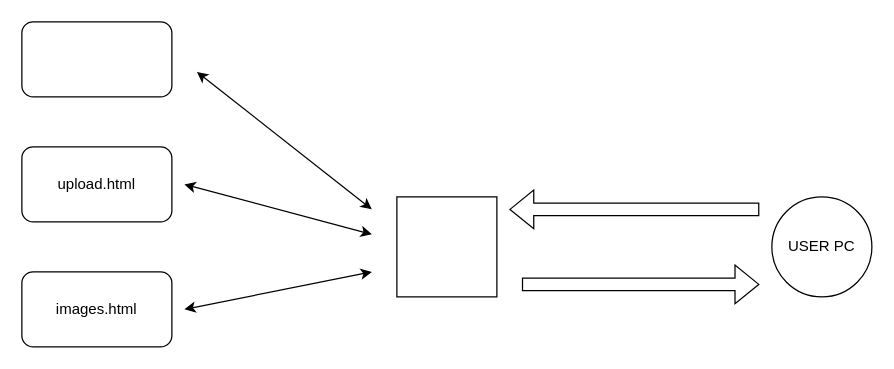
Image size: 894x369. Some labels were removed from this diagram. Each missing label, with the box of its shape:
index.html: (21, 21, 172, 97)
nginx: (396, 196, 497, 297)
